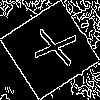X: (25, 25, 76, 68)
